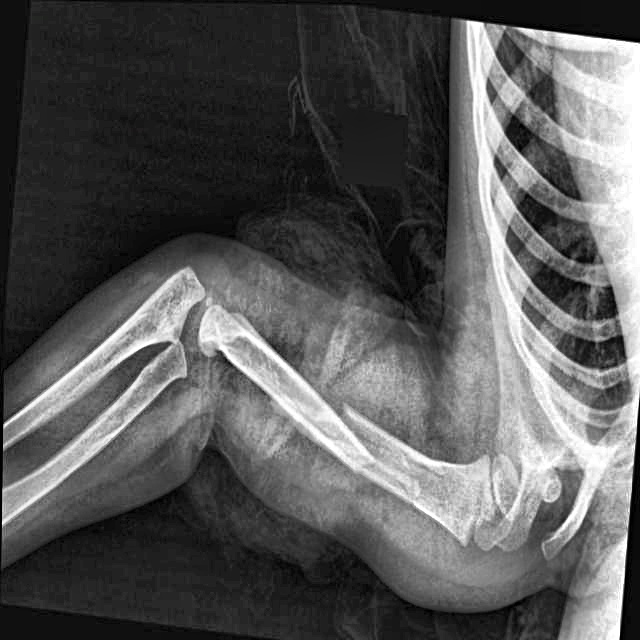Transverse: (320, 384, 391, 497)
